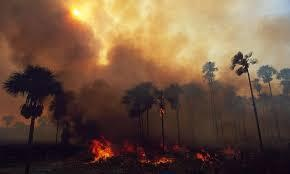fire: (89, 137, 113, 161)
